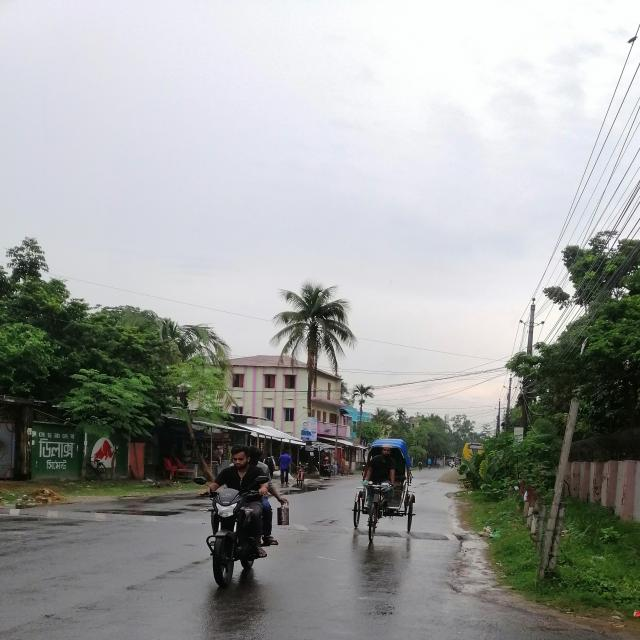Motorbike: (183, 472, 289, 585)
Rickshaw: (346, 431, 421, 546)
